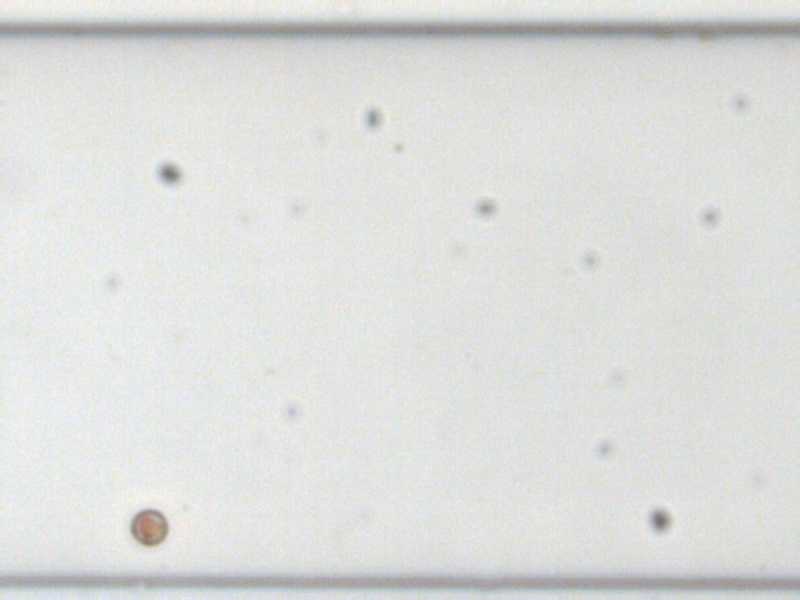Porphyridium: (126, 505, 168, 547)
